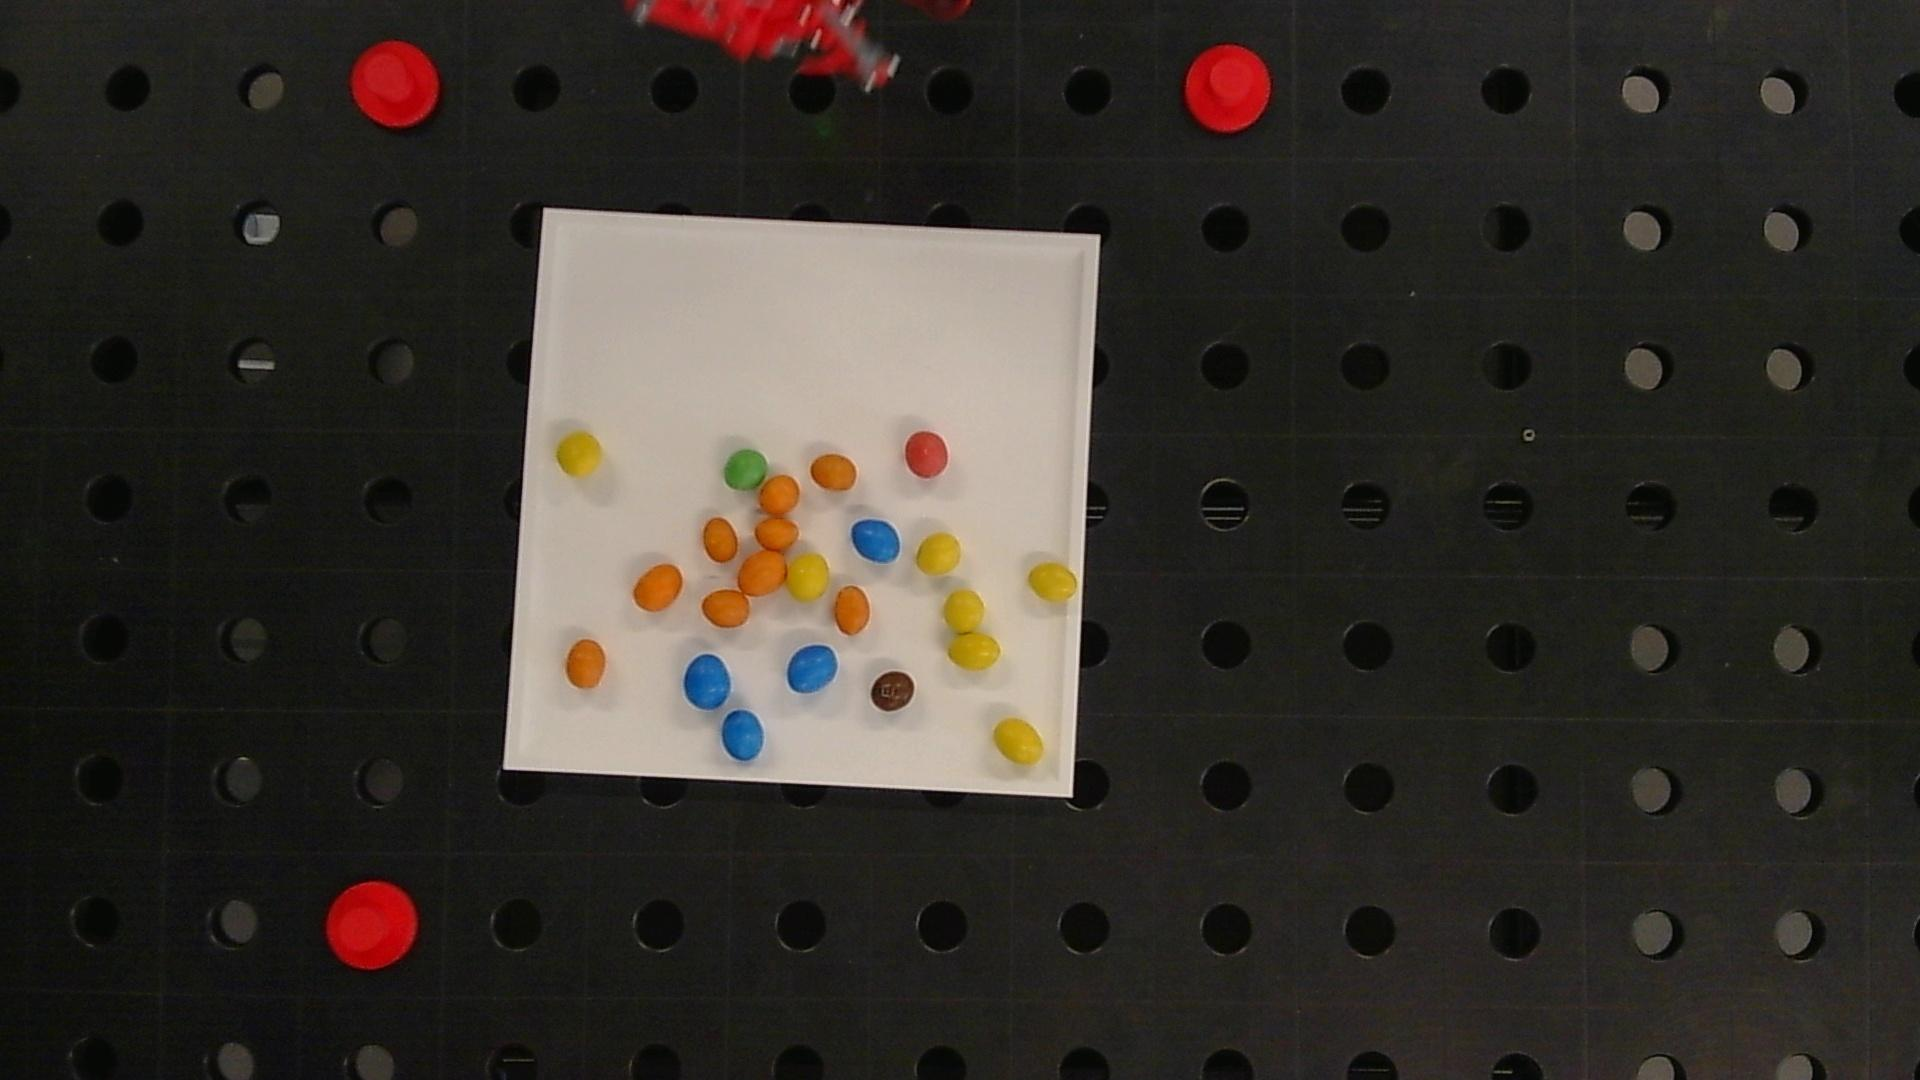blue: (684, 654, 731, 709), (787, 645, 839, 694), (852, 518, 901, 563), (723, 709, 764, 761)
brown: (870, 671, 915, 712)
green: (724, 450, 766, 489)
orange: (633, 563, 683, 612), (737, 551, 786, 595), (566, 638, 605, 688), (702, 589, 749, 628), (811, 454, 857, 491), (835, 585, 869, 634), (703, 517, 738, 562), (761, 475, 799, 514), (756, 520, 799, 551)
red: (905, 430, 948, 477)
yellow: (993, 717, 1046, 765), (556, 431, 603, 477), (1027, 563, 1079, 601), (787, 554, 829, 600), (949, 634, 1002, 671), (916, 533, 963, 575), (944, 589, 985, 633)
